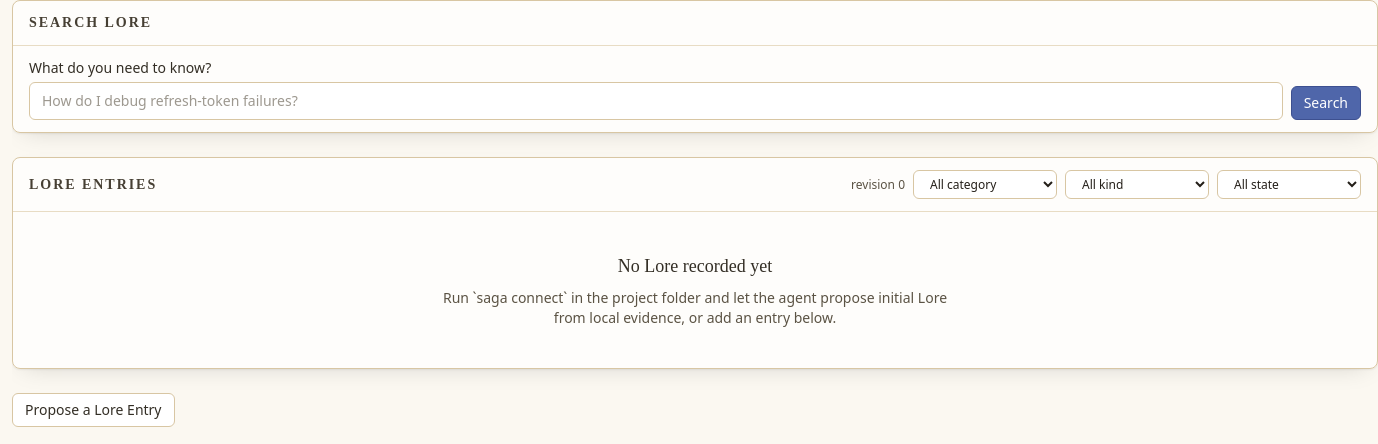
Test case: Lore page › keeps category filters in the URL
Expected: the text "No Lore recorded yet" is shown, [618,256,772,276]
Select "warning" in the 1st dropdown named "Filter by category". click: (985, 184)
box: [913,170,1057,199]
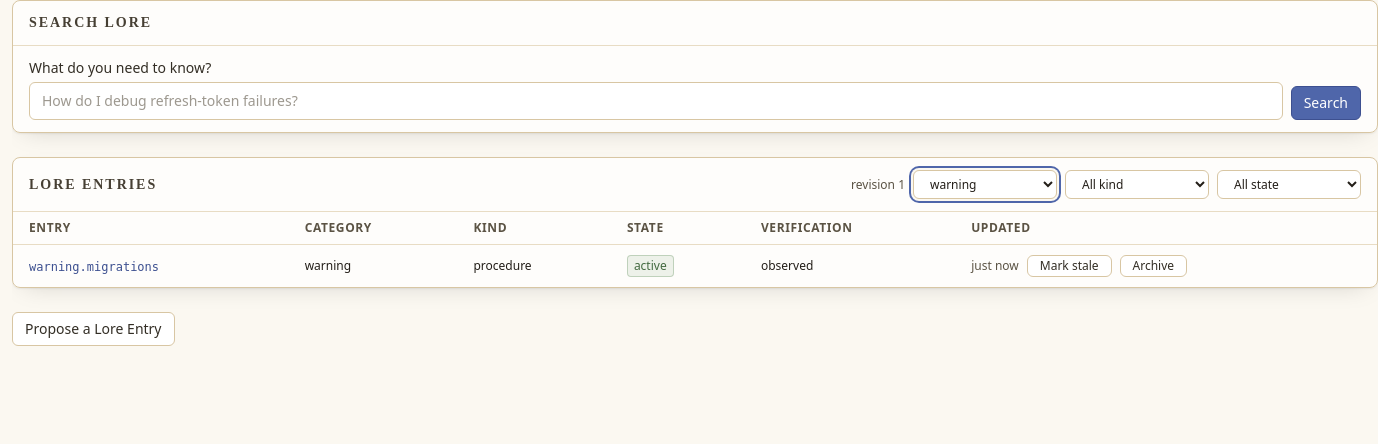
Expected: the link "warning.migrations" is shown, [29,260,159,274]
